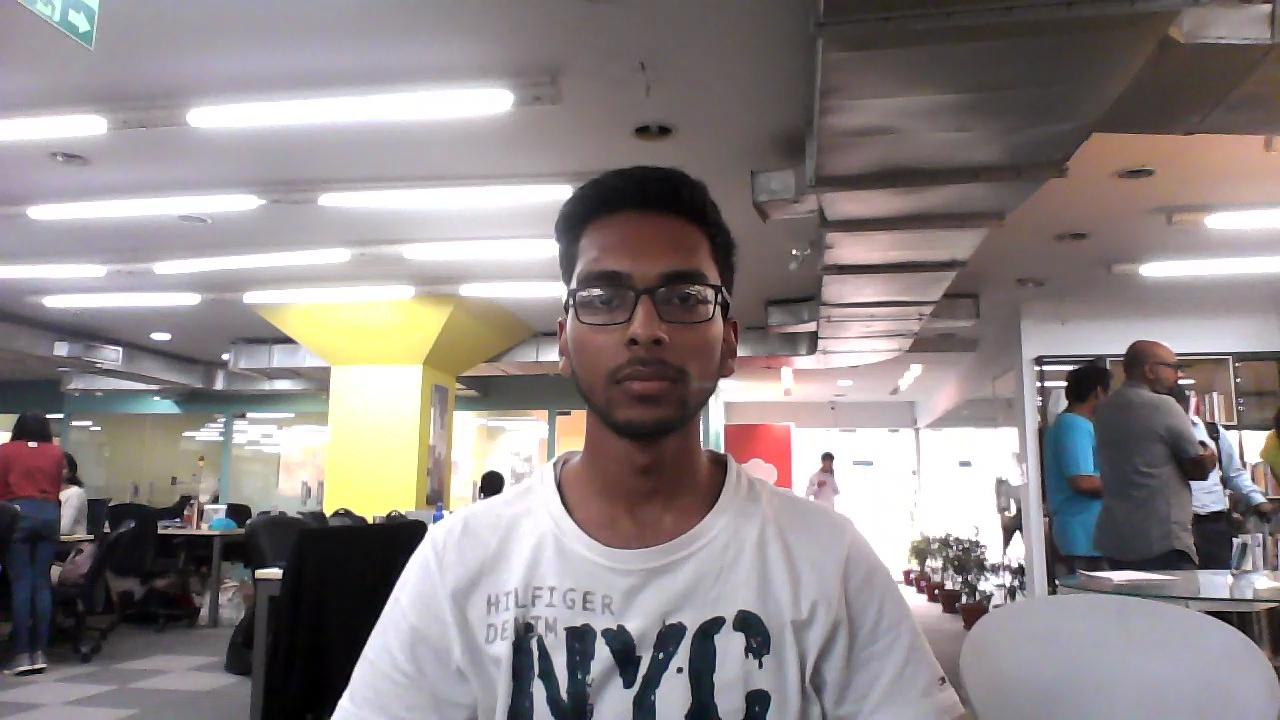open: (549, 164, 752, 454)
